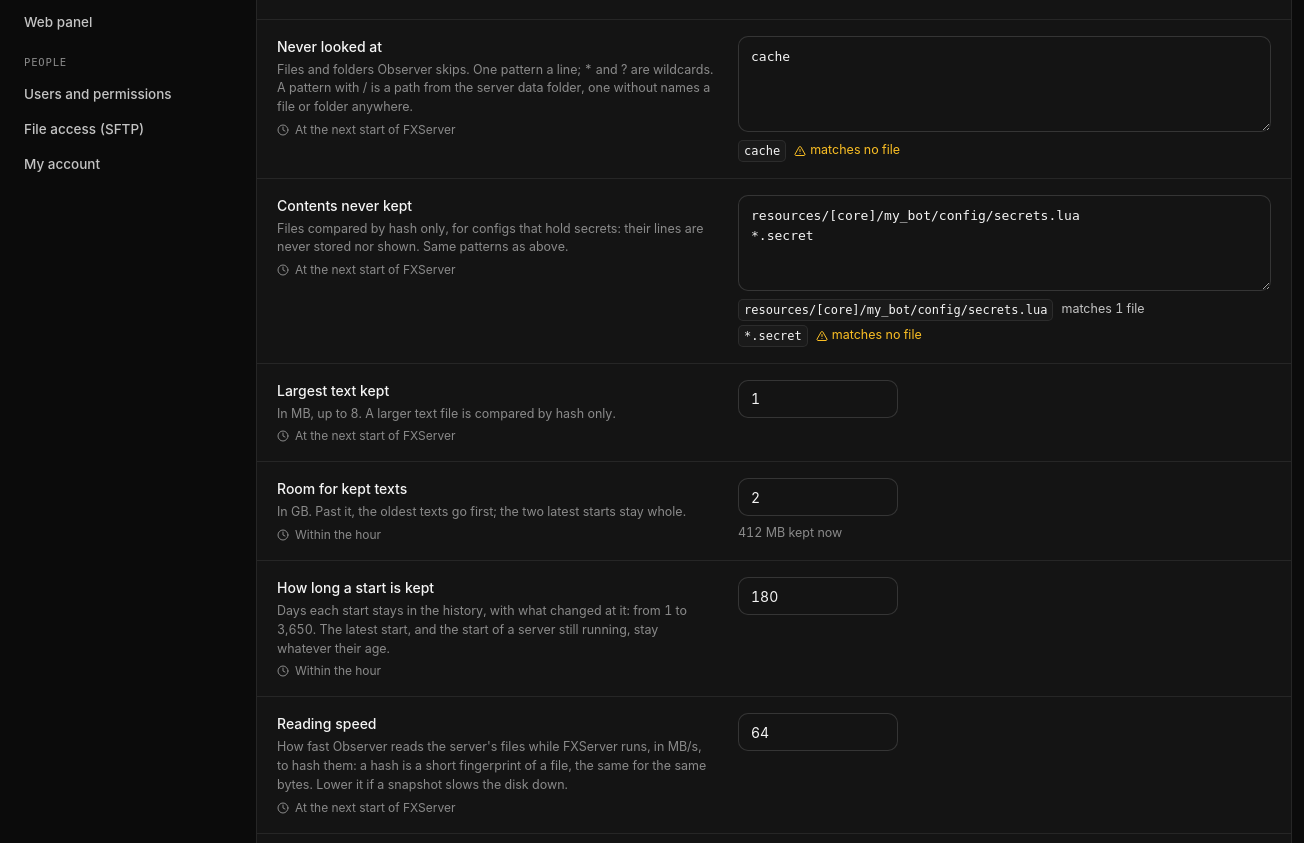
Test case: Data kept settings › should count the changes of every section in one bar, and save each with its own request
(page scrolled)
Replace the text in the number field labelled "Largest text kept" with "2" at [818, 398], box x1=738 y1=380 x2=898 y2=418
(page scrolled)
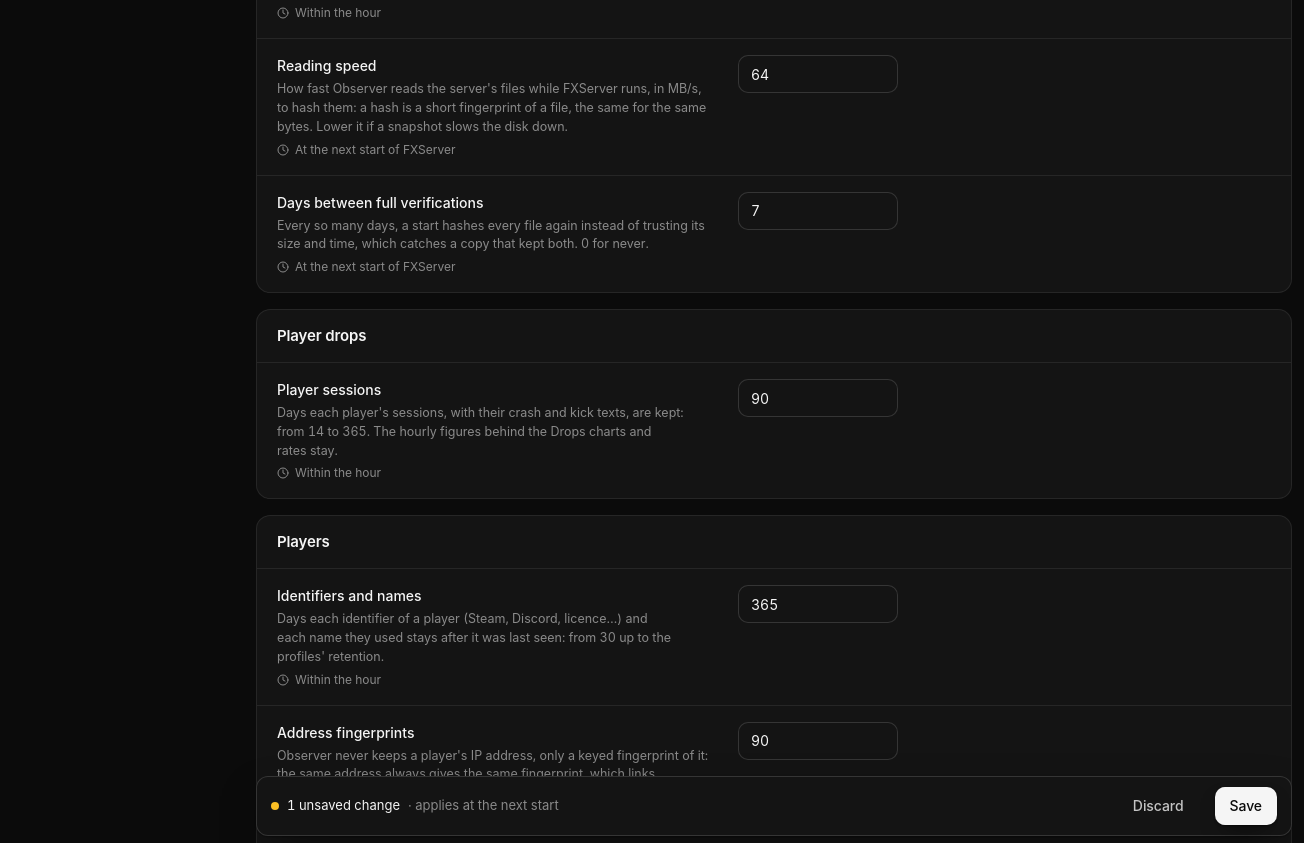
Replace the text in the number field labelled "Player sessions" with "120" at [818, 398], box x1=738 y1=379 x2=898 y2=417
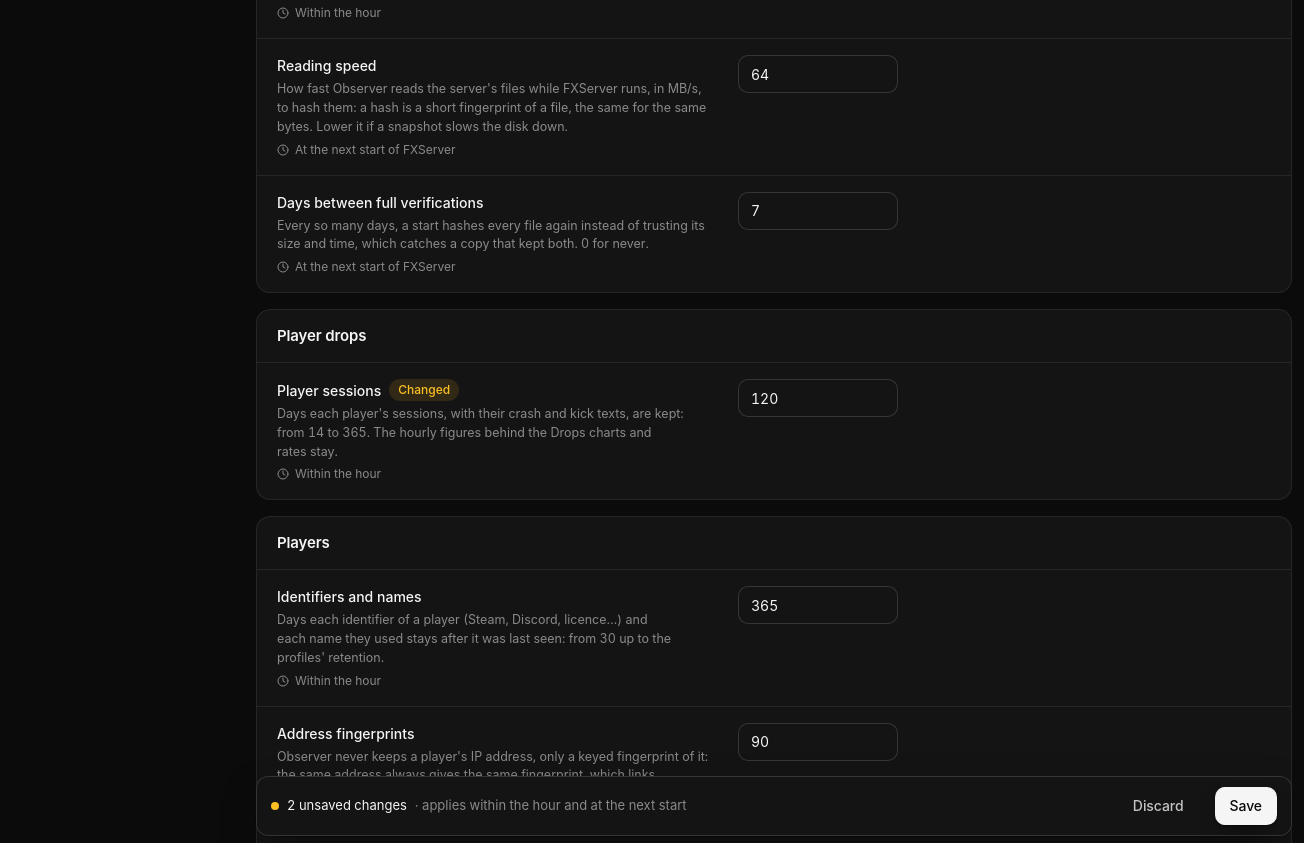
Click the button "Save" at [1246, 806], box x1=1214 y1=787 x2=1277 y2=825
(page scrolled)
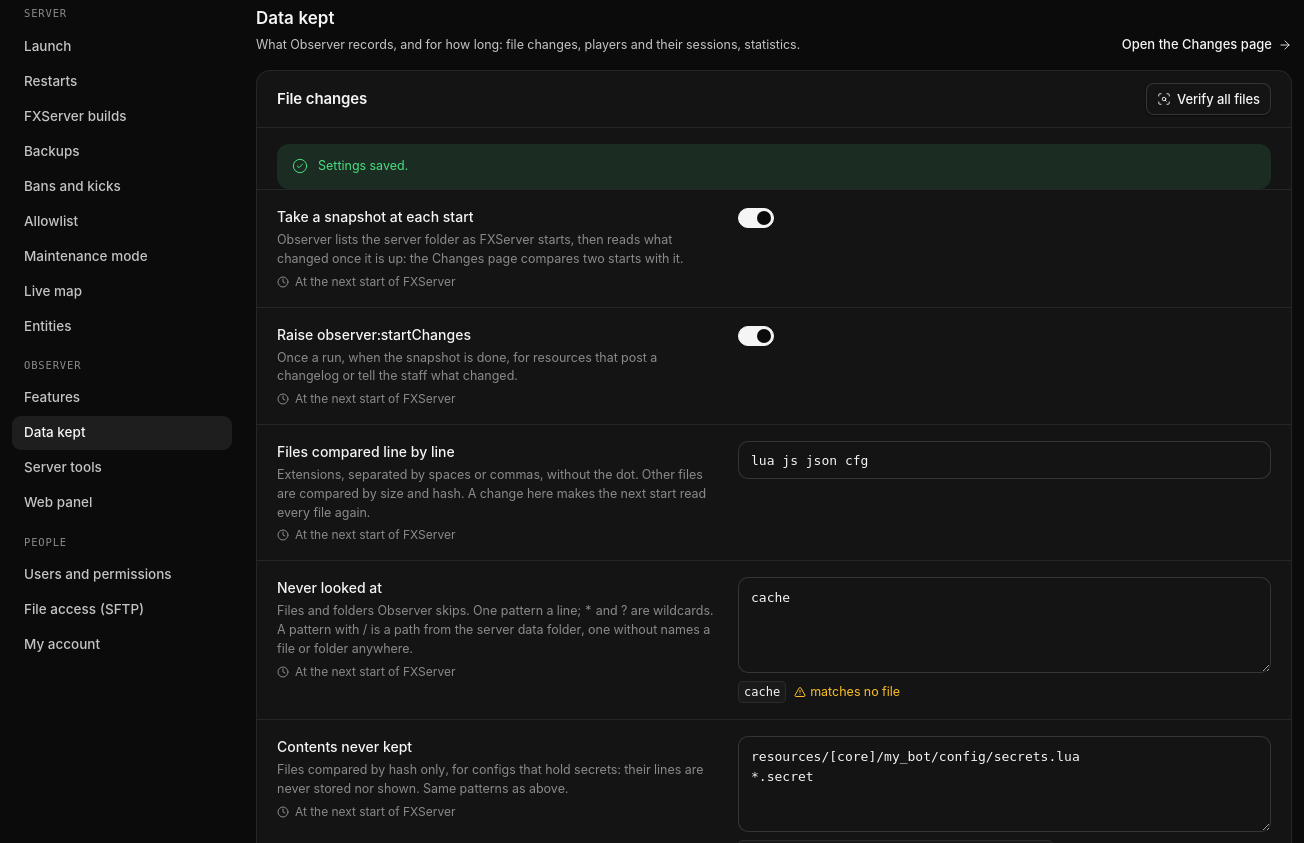
expect the text "Settings saved." is shown: met, box x1=318 y1=158 x2=408 y2=173
